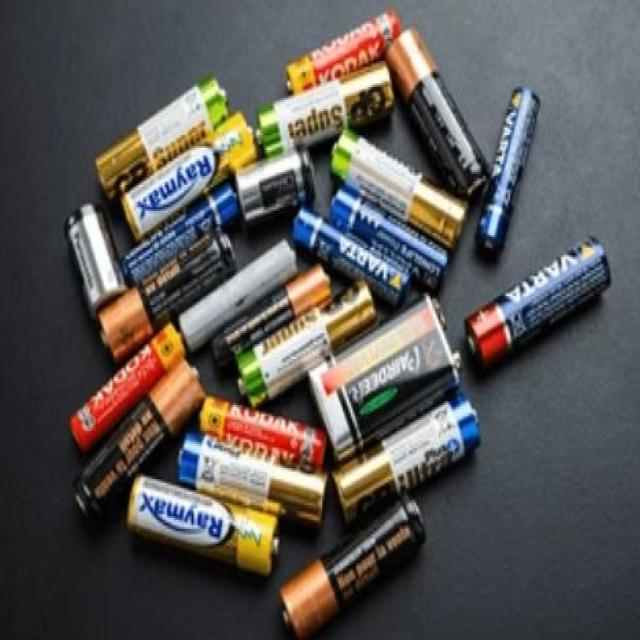electronic: (62, 61, 274, 227)
